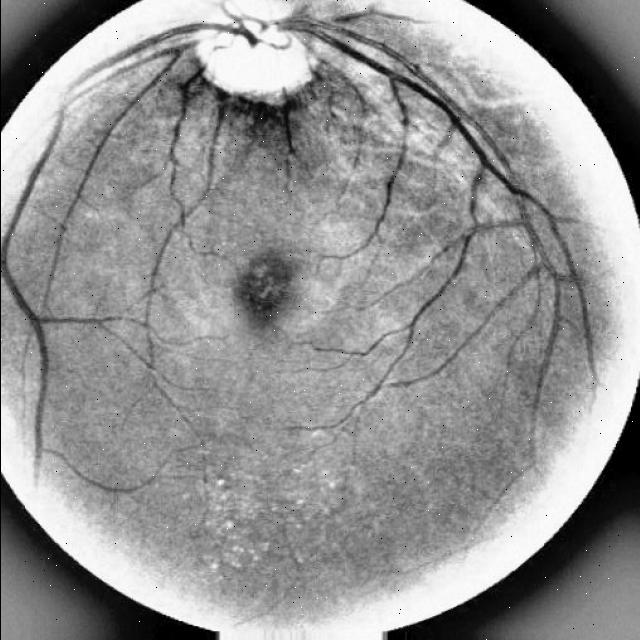Macula: (237, 256, 299, 328)
Nerves: (249, 13, 595, 437), (0, 19, 271, 494)
Optic Disk: (195, 0, 310, 105)
